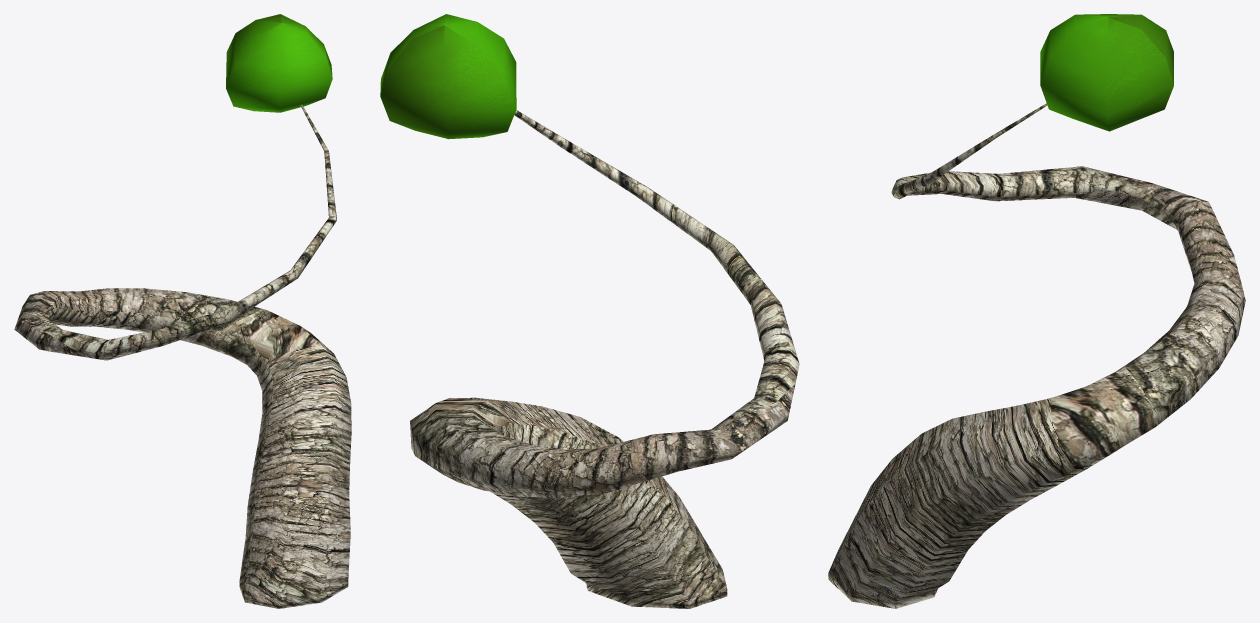
3 renders of one model, left to right at view 1: azimuth 30°, elevation 25°; view 2: azimuth 150°, elevation 25°; view 3: azimuth 270°, elevation 25°, orthographic. The views are drawn at different scales.
Visible parts, largest first — view 1: polySurface52; view 2: polySurface52; view 3: polySurface52.
Boxes of the visible parts, x1,y1,x2,y2 form: polySurface52: [14, 14, 351, 608]; polySurface52: [380, 14, 799, 608]; polySurface52: [828, 14, 1245, 608].
Size of the model in its own units: 10618 by 15875 by 9915.
